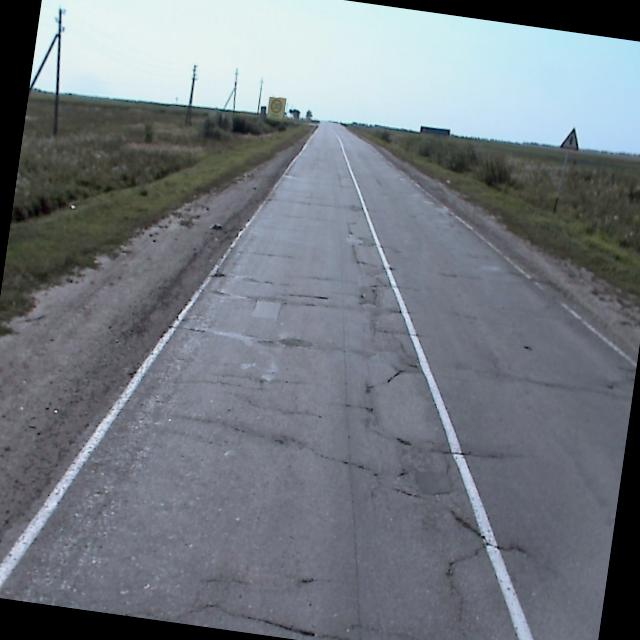road: (0, 123, 635, 640)
